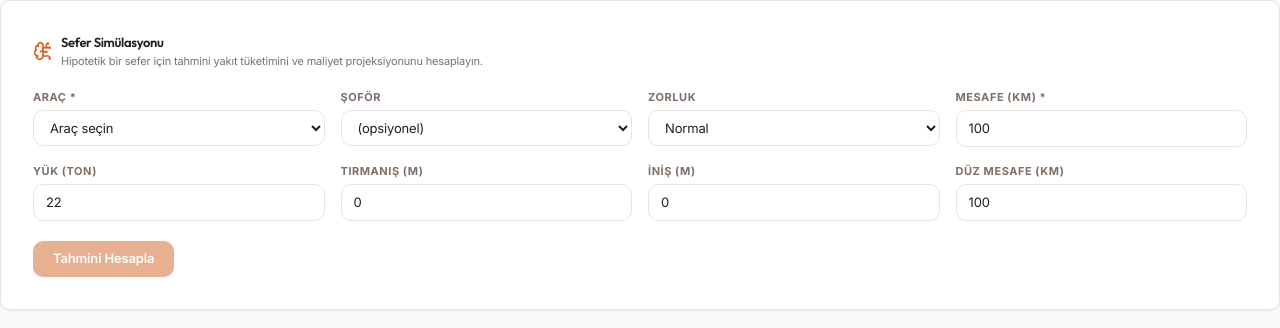
Test case: PredictionSimulator › enables submit button after selecting a vehicle
This screenshot has width=1280, height=328.
Select "06ABC001" in the dropdown below "Araç *" at (179, 128), box [33,110,324,146]
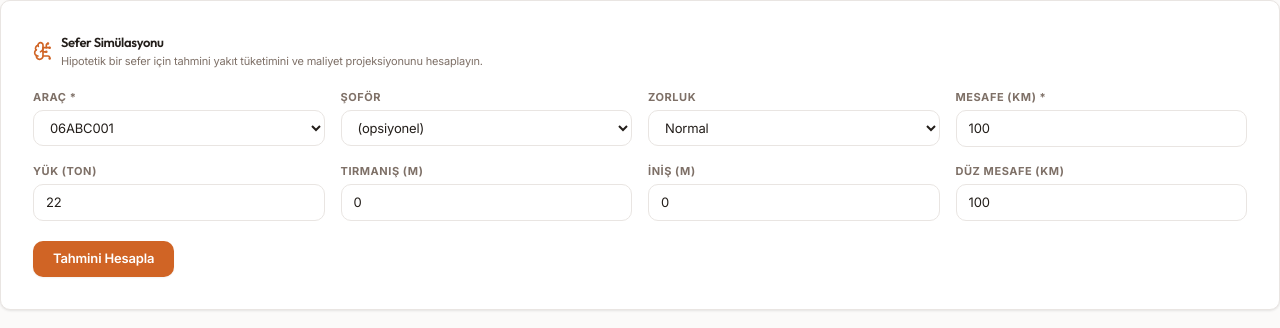
expect the button "Tahmini Hesapla" is enabled: met, box [33,241,174,276]
